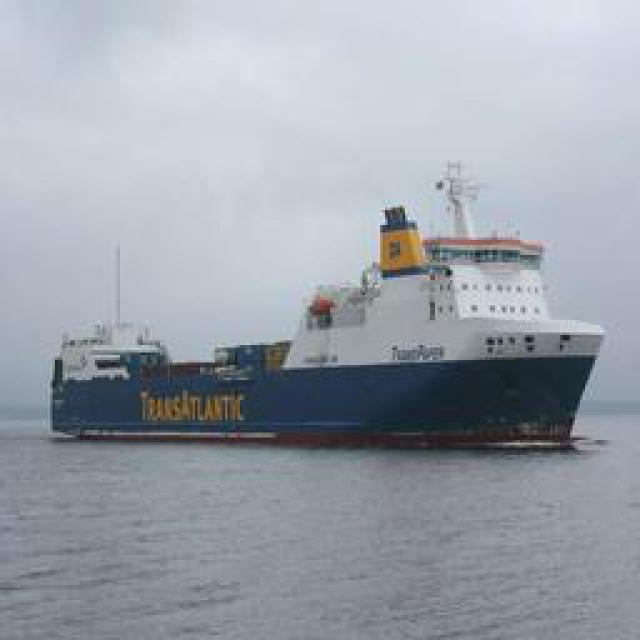Ship: (61, 185, 601, 448)
